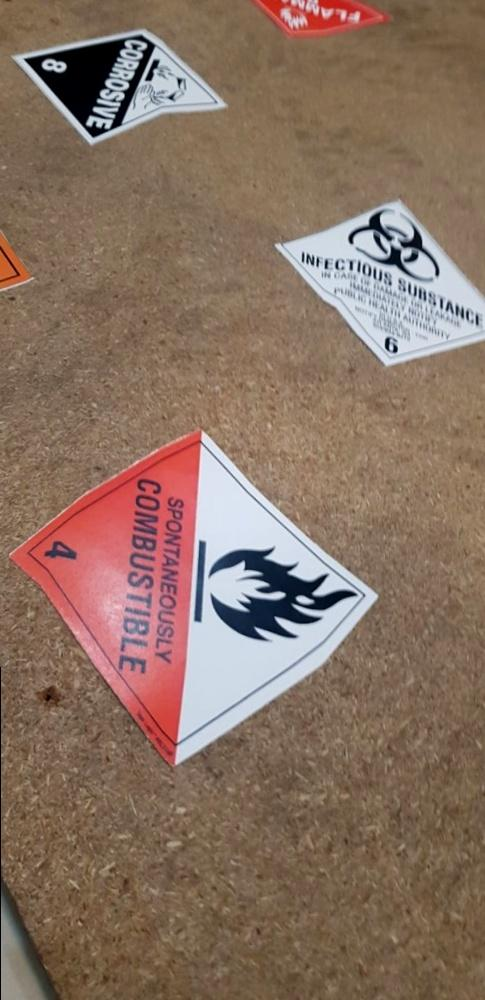corrosive: (4, 25, 240, 156)
flammable: (252, 3, 397, 41)
infectious-substance: (269, 205, 485, 376)
spontaneously-combustible: (6, 427, 386, 761)
